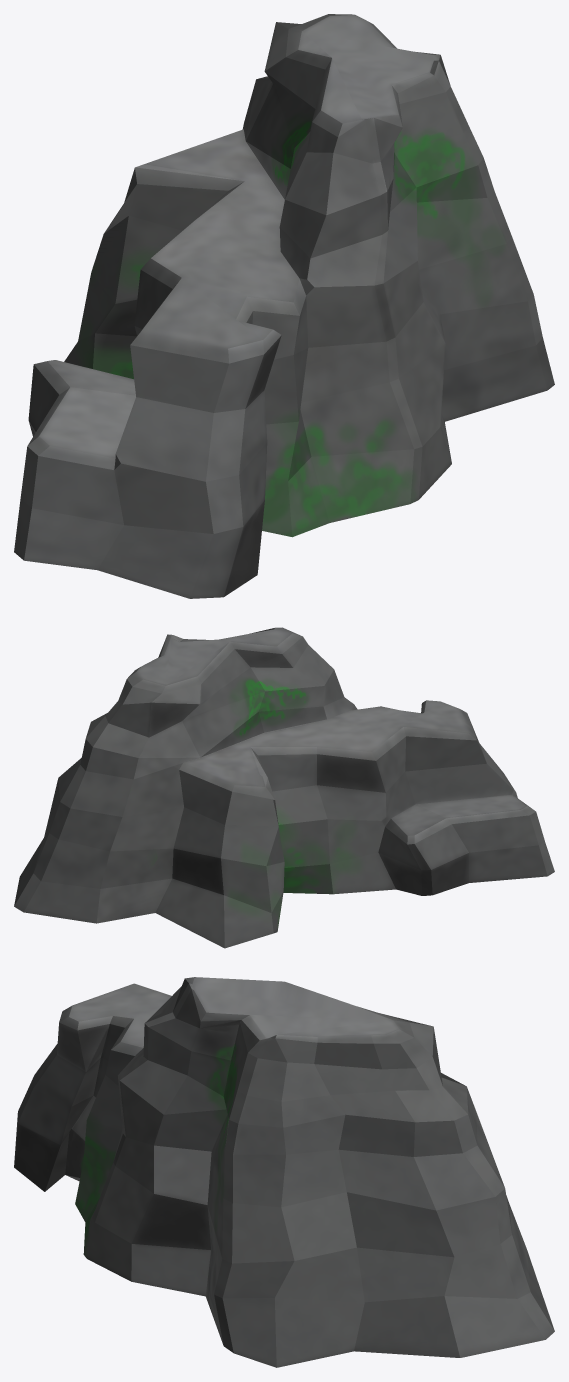
File: batu 8.fbx
3 views of the same model, one above another, from view 1: azimuth 30°, elevation 25°; view 2: azimuth 150°, elevation 25°; view 3: azimuth 270°, elevation 25° (orthographic). The views are drawn at different scales.
Parts seen in each view (by area): view 1: batu8; view 2: batu8; view 3: batu8.
Part boxes in pixels (bbox=[...]): batu8: bbox=[14, 14, 554, 598]; batu8: bbox=[14, 627, 554, 948]; batu8: bbox=[14, 977, 554, 1367].
Bounding box in the file's own units: 423 × 232 × 377.
